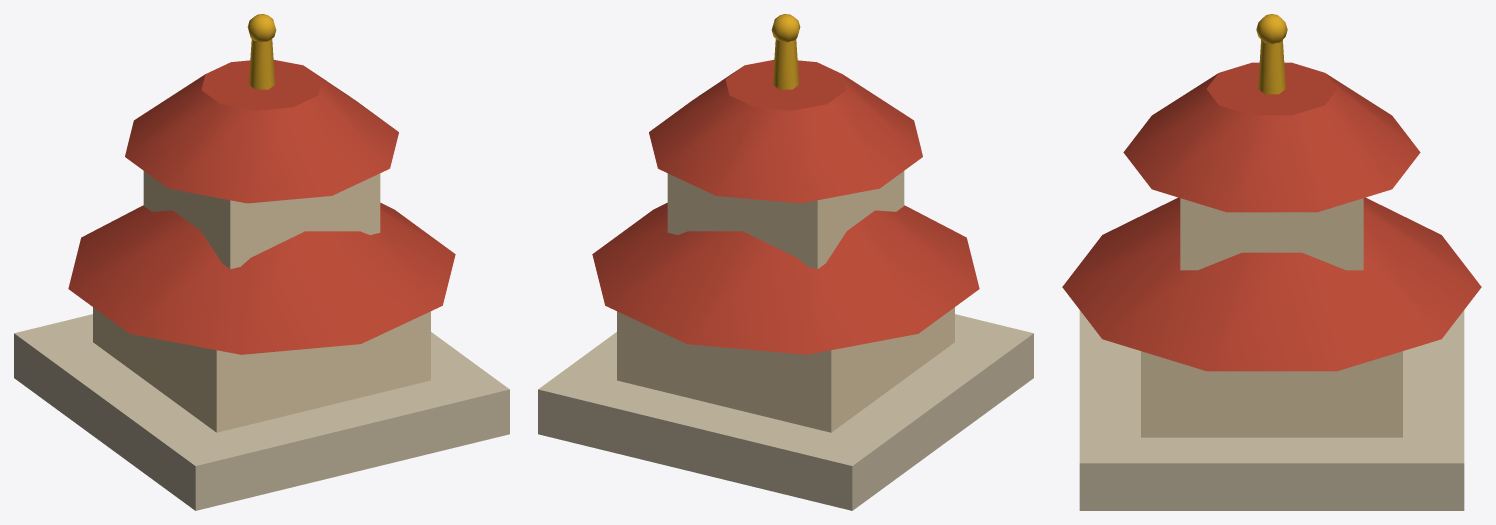
Rendered from pagoda.glb.
3 views of the same model, side by side, from view 1: azimuth 30°, elevation 25°; view 2: azimuth 150°, elevation 25°; view 3: azimuth 270°, elevation 25° (orthographic). The views are drawn at different scales.
Bounding box in the file's own units: 4.57 × 5.23 × 4.8.
